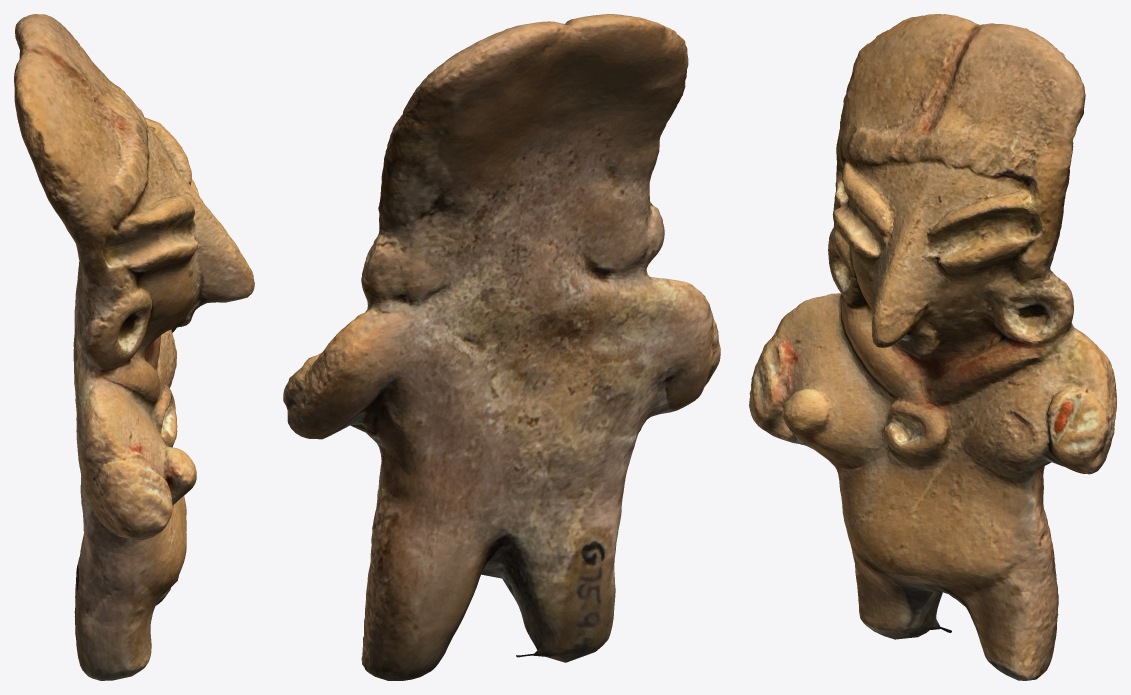
File: Figurine5.glb
3 views of the same model, side by side, from view 1: azimuth 30°, elevation 25°; view 2: azimuth 150°, elevation 25°; view 3: azimuth 270°, elevation 25° (orthographic). The views are drawn at different scales.
Size of the model in its own units: 0.3494 by 0.8229 by 0.4576.
1 material, 1 textured.
